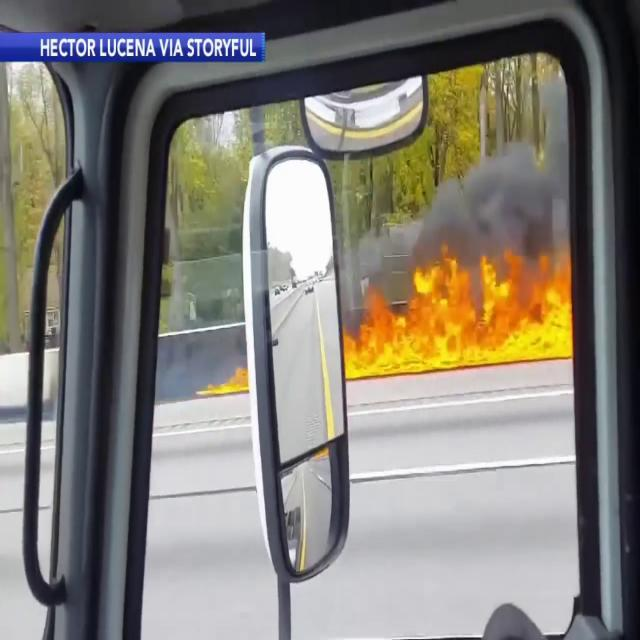Fire: (332, 242, 576, 382)
